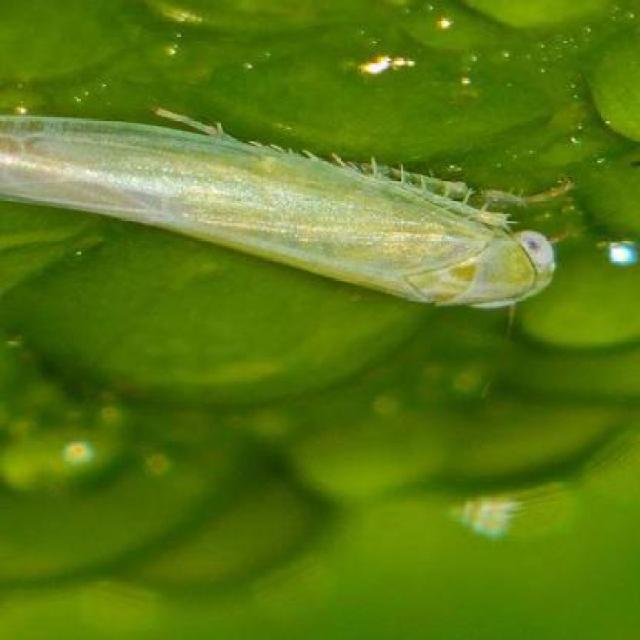green-leafhopper: (1, 103, 574, 315)
